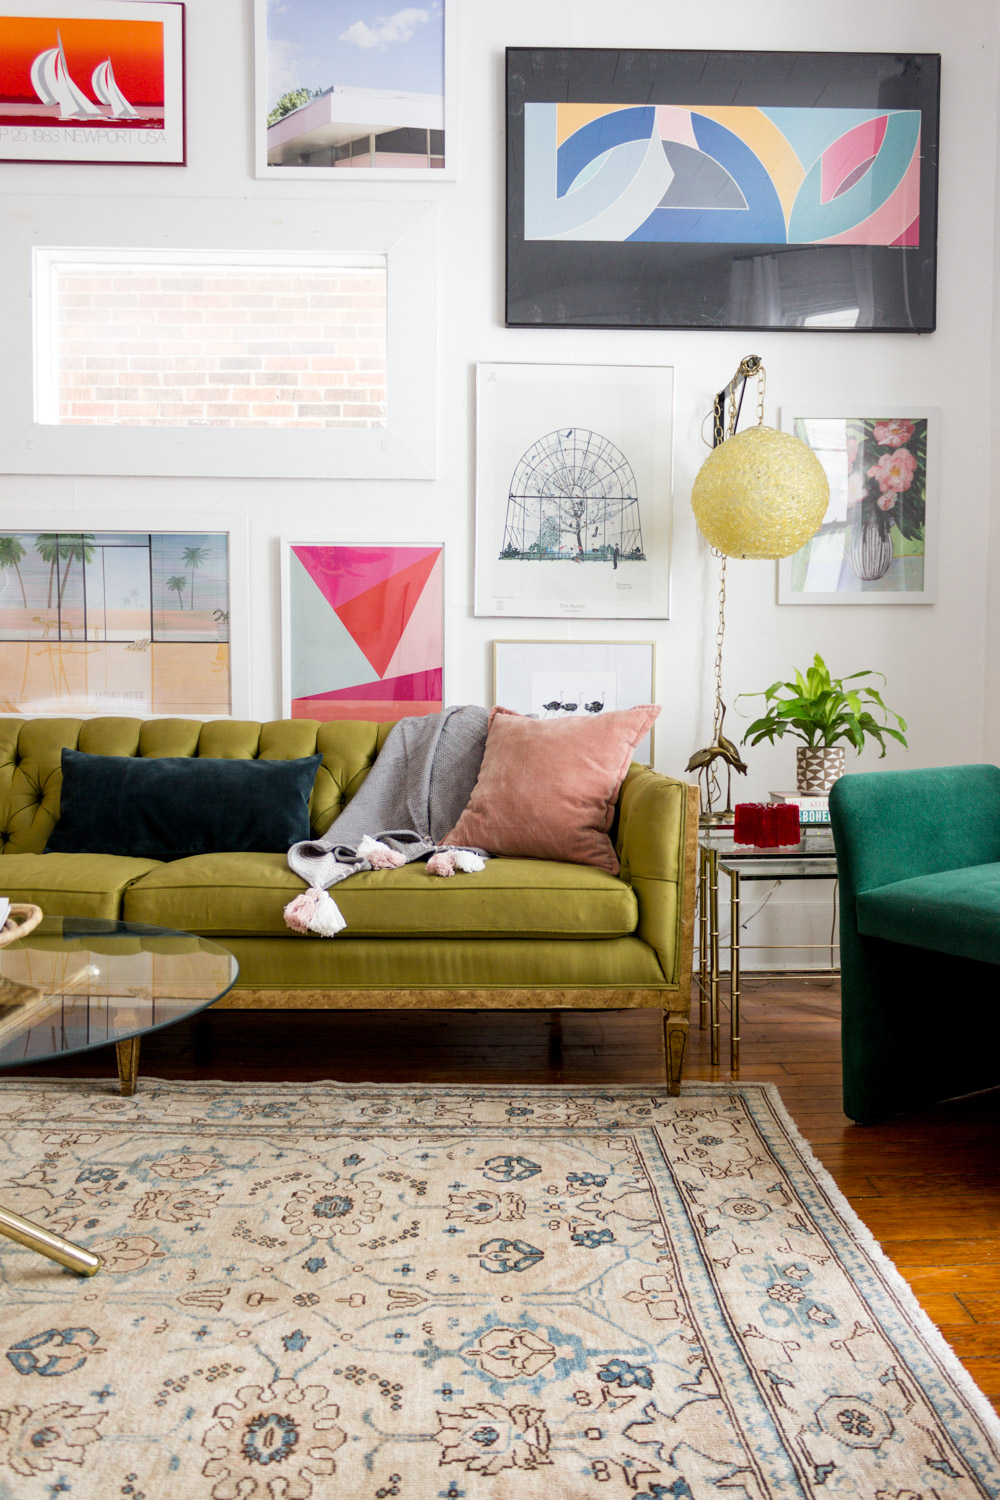hijau: (827, 754, 1000, 1136)
hitam: (56, 758, 309, 855)
kuning: (694, 431, 827, 562)
pink: (481, 712, 627, 865)
